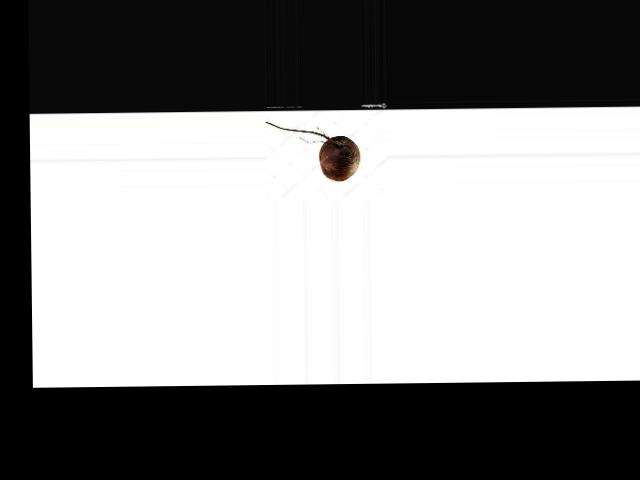beet: (265, 120, 359, 181)
